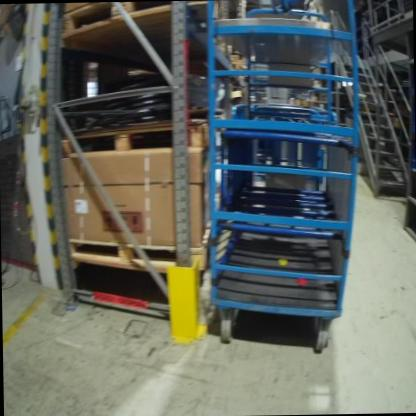pallet: (61, 0, 209, 57), (66, 219, 214, 276), (61, 117, 208, 158)
